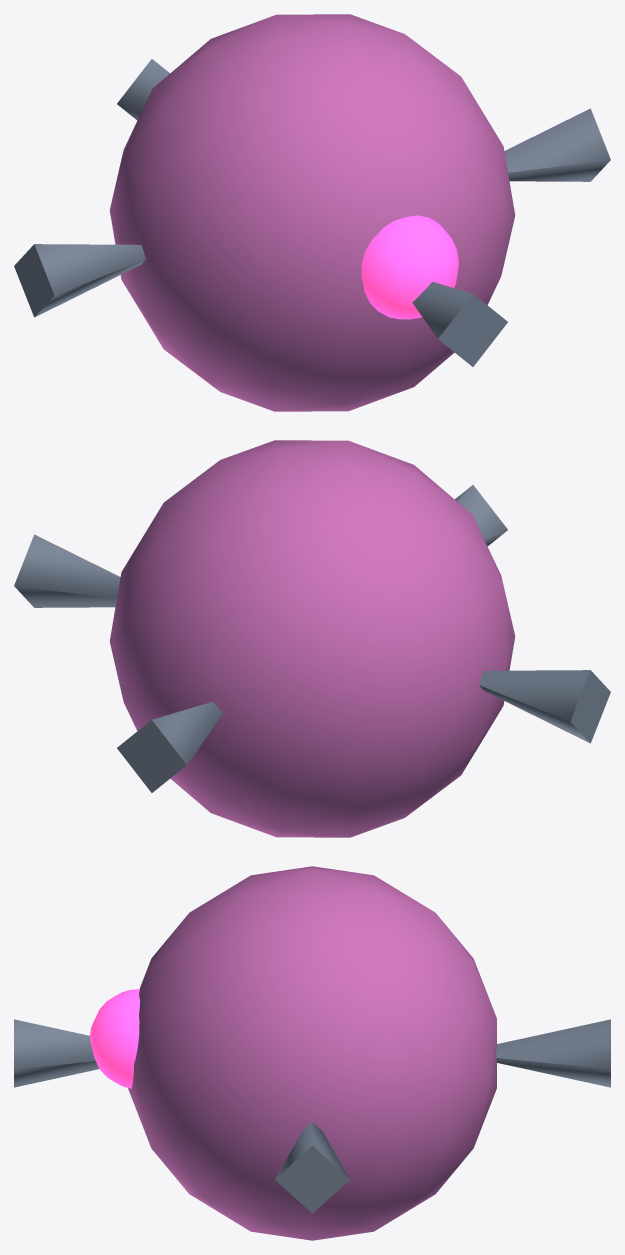
Rendered from overlord_core.glb.
3 views of the same model, one above another, from view 1: azimuth 30°, elevation 25°; view 2: azimuth 150°, elevation 25°; view 3: azimuth 270°, elevation 25° (orthographic). The views are drawn at different scales.
Visible parts, largest first — view 1: core; view 2: core; view 3: core.
Part boxes in pixels (box(x1,y1,x2,y2)): core: box(14, 14, 610, 411); core: box(14, 440, 610, 837); core: box(14, 866, 610, 1240).
Size of the model in its own units: 1.9 by 1.18 by 1.9.
